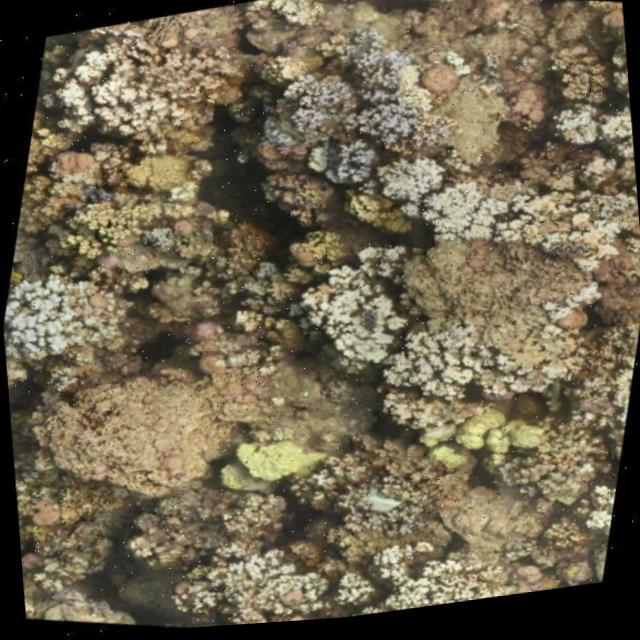Bleached Coral: (292, 231, 424, 390), (162, 523, 347, 632), (1, 246, 139, 384), (337, 38, 437, 174), (384, 328, 502, 442), (43, 35, 155, 155), (421, 167, 533, 267), (349, 549, 503, 620), (364, 149, 454, 224), (530, 274, 617, 345), (306, 132, 386, 205), (544, 96, 611, 167), (554, 490, 617, 559)
